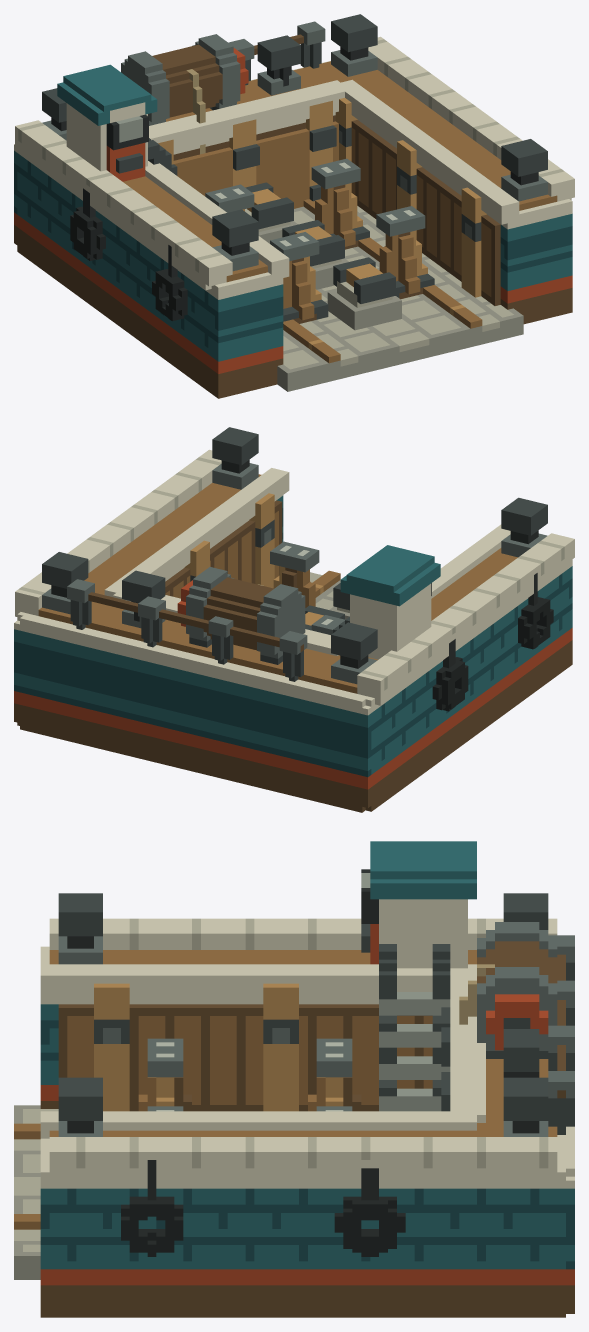
File: repair_dock.glb
3 views of the same model, one above another, from view 1: azimuth 30°, elevation 25°; view 2: azimuth 150°, elevation 25°; view 3: azimuth 270°, elevation 25° (orthographic). The views are drawn at different scales.
Visible parts, largest first — view 1: repair_dock; view 2: repair_dock; view 3: repair_dock.
Boxes of the visible parts, x1,y1,x2,y2 form: repair_dock: (14, 14, 574, 398); repair_dock: (14, 427, 574, 812); repair_dock: (14, 841, 574, 1317).
Size of the model in its own units: 12.8 by 6.4 by 12.6.
